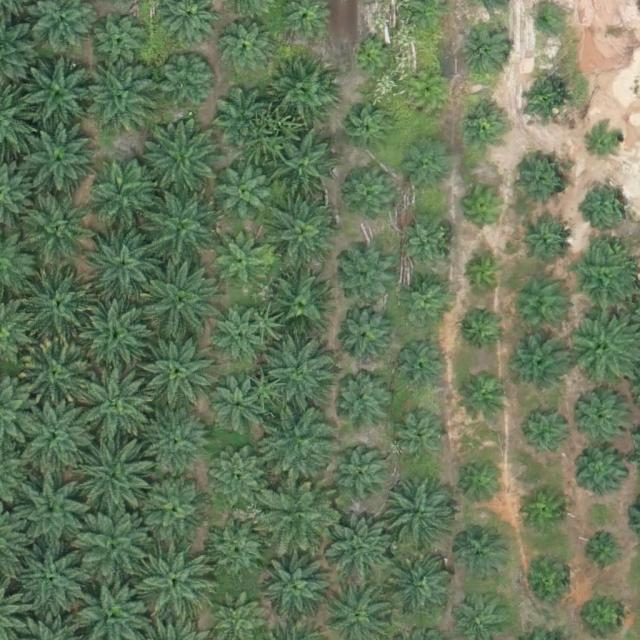Healthy: (140, 539, 218, 618), (19, 542, 97, 621), (381, 477, 459, 556), (321, 507, 399, 586), (148, 191, 226, 270), (143, 261, 221, 340), (142, 332, 220, 411), (74, 432, 152, 511), (74, 360, 152, 439), (75, 294, 153, 373), (85, 224, 163, 303), (86, 54, 164, 133), (19, 56, 97, 135), (18, 125, 96, 204), (16, 476, 94, 555), (145, 126, 223, 204), (74, 507, 152, 585), (19, 266, 97, 344), (269, 201, 340, 272), (142, 412, 213, 483), (264, 338, 334, 409), (262, 485, 333, 555), (139, 475, 209, 546), (22, 395, 92, 466), (261, 552, 331, 622), (260, 410, 330, 480), (571, 244, 640, 314), (269, 271, 332, 334), (384, 554, 447, 616), (507, 279, 570, 341), (575, 384, 637, 447), (275, 138, 337, 201), (204, 445, 267, 507), (93, 162, 155, 225), (26, 198, 88, 261), (271, 61, 333, 123), (574, 443, 629, 498), (399, 278, 454, 333), (397, 413, 452, 468), (343, 169, 398, 224), (340, 251, 395, 306), (338, 306, 393, 361), (334, 376, 389, 431), (336, 449, 391, 504), (452, 526, 507, 581), (211, 519, 266, 574), (213, 383, 268, 438), (214, 234, 269, 289), (219, 168, 274, 223), (213, 88, 268, 143), (161, 53, 216, 108), (91, 15, 146, 70), (221, 21, 275, 77), (513, 335, 567, 390), (398, 220, 452, 275), (393, 341, 447, 396), (211, 306, 265, 361), (464, 26, 511, 74)
Small: (516, 157, 571, 212), (518, 218, 573, 273), (521, 78, 568, 126), (461, 375, 508, 423), (457, 306, 504, 354), (461, 251, 508, 299), (585, 180, 632, 228), (344, 106, 391, 153), (405, 146, 452, 193), (459, 100, 506, 147), (463, 183, 510, 230), (459, 461, 506, 508), (521, 486, 568, 533), (527, 411, 574, 458), (523, 558, 570, 605), (588, 123, 627, 163), (584, 529, 623, 569), (351, 36, 390, 75), (531, 8, 562, 39)
Yellow: (13, 335, 91, 414), (407, 73, 447, 112)
